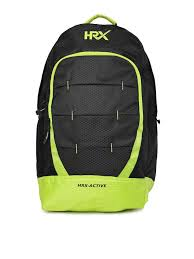backpack: (35, 14, 159, 212)
